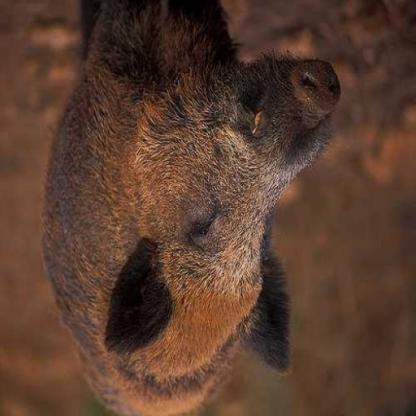boar: (44, 1, 340, 404)
